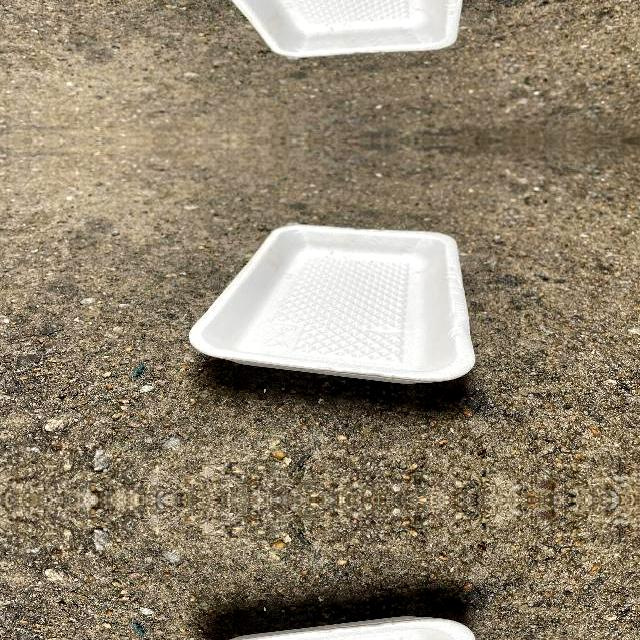Styrofoam: (189, 223, 475, 384), (189, 224, 475, 383), (189, 0, 475, 56), (232, 0, 463, 56)
